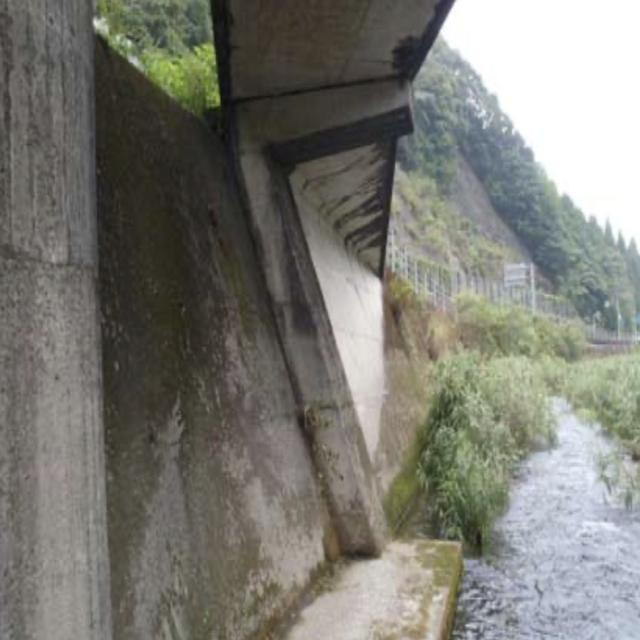leakage: (92, 37, 277, 552)
